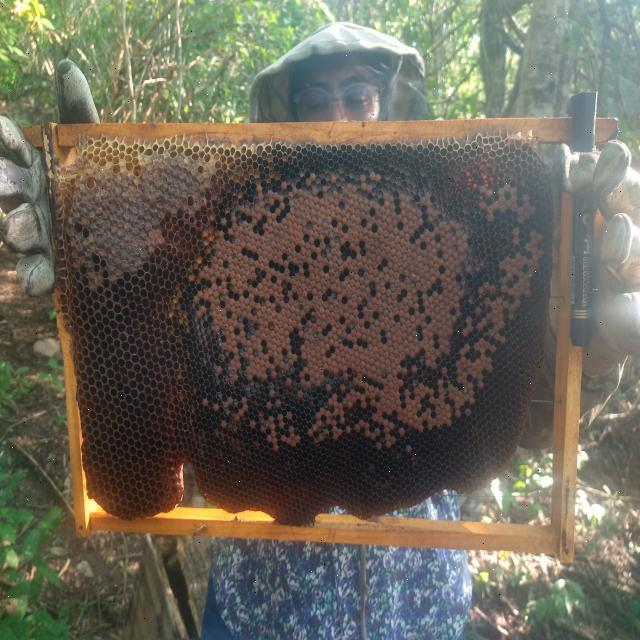cria: (190, 160, 487, 452), (399, 183, 543, 432)
marco: (86, 147, 565, 520)
